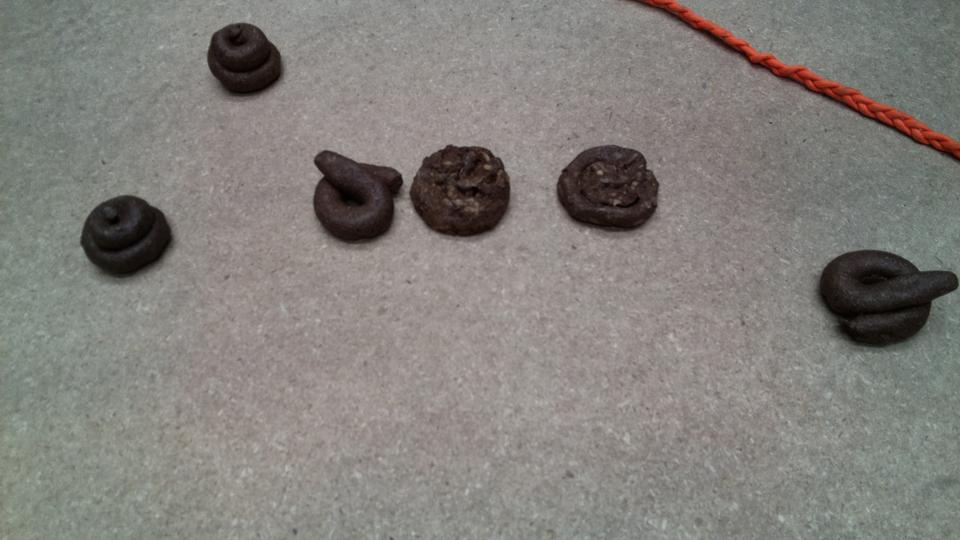poop: (813, 244, 958, 351), (406, 142, 515, 244), (308, 140, 407, 247), (554, 142, 662, 235), (77, 190, 177, 281), (203, 20, 285, 100)
rope: (634, 1, 960, 164)
